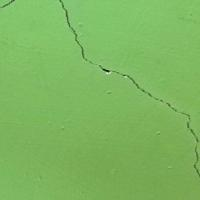crack: (56, 0, 199, 174)
